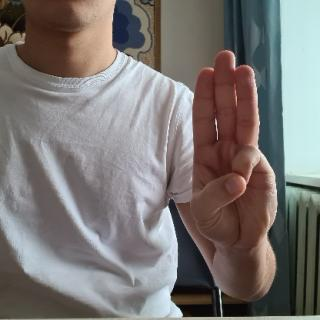THA: (180, 50, 285, 252)
